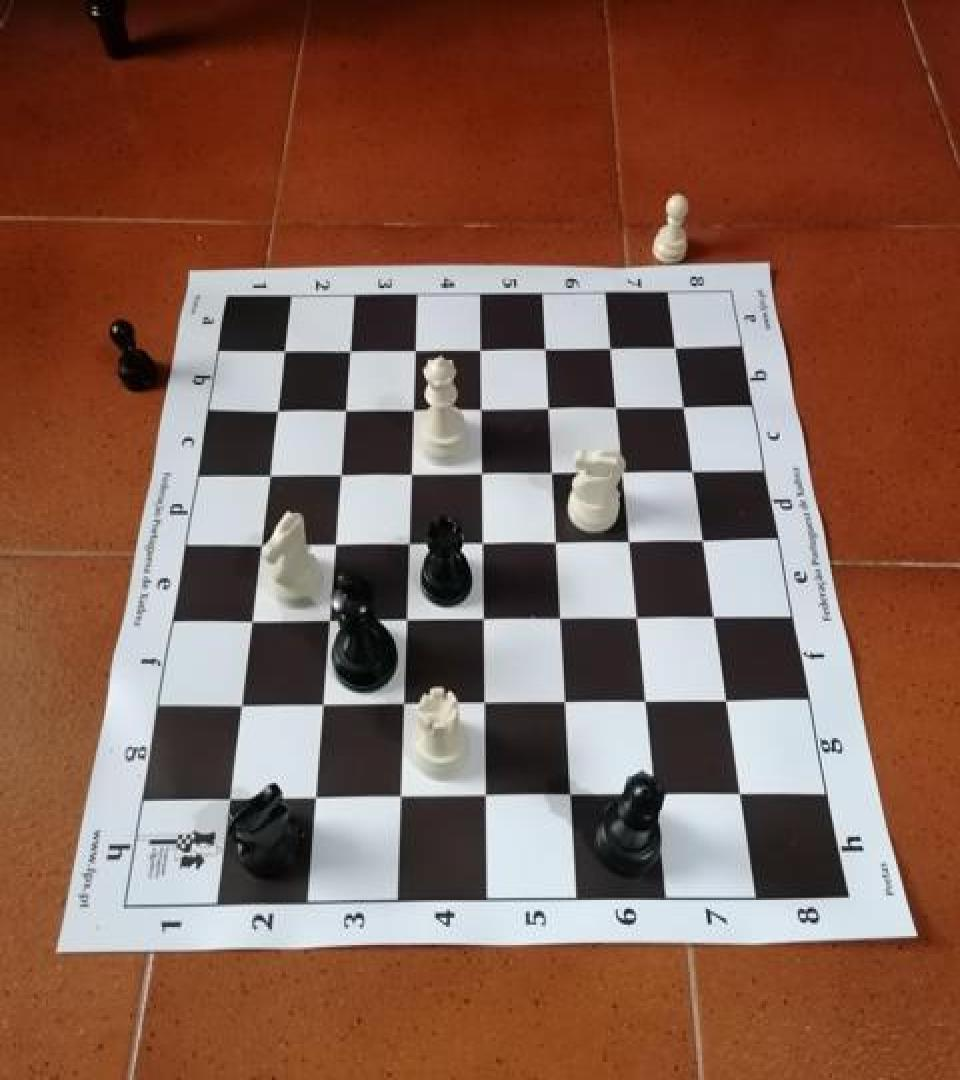xcorner: (657, 332, 687, 366), (593, 332, 623, 366), (528, 333, 558, 367), (464, 333, 494, 367), (399, 334, 429, 368), (334, 334, 364, 368), (269, 335, 299, 369), (666, 390, 696, 424), (599, 392, 629, 426), (532, 392, 562, 426), (465, 392, 495, 426), (397, 392, 427, 426), (330, 394, 360, 428), (262, 395, 292, 429), (676, 454, 706, 488), (606, 456, 636, 490), (536, 456, 566, 490), (395, 458, 425, 492), (325, 458, 355, 492), (254, 459, 284, 493), (686, 524, 716, 558), (613, 525, 643, 559), (540, 526, 570, 560), (467, 526, 497, 560), (393, 528, 423, 562), (320, 528, 350, 562), (246, 528, 276, 562), (621, 602, 651, 636), (545, 603, 575, 637), (468, 603, 498, 637), (391, 604, 421, 638), (314, 605, 344, 639), (237, 606, 267, 640), (710, 684, 740, 718), (630, 685, 660, 719), (550, 686, 580, 720), (469, 687, 499, 721), (308, 690, 338, 724), (227, 690, 257, 724), (724, 776, 754, 810), (640, 777, 670, 811), (555, 780, 585, 814), (471, 780, 501, 814), (386, 782, 416, 816), (301, 783, 331, 817), (216, 784, 246, 818), (466, 457, 496, 490), (698, 601, 728, 634), (388, 689, 418, 722)
